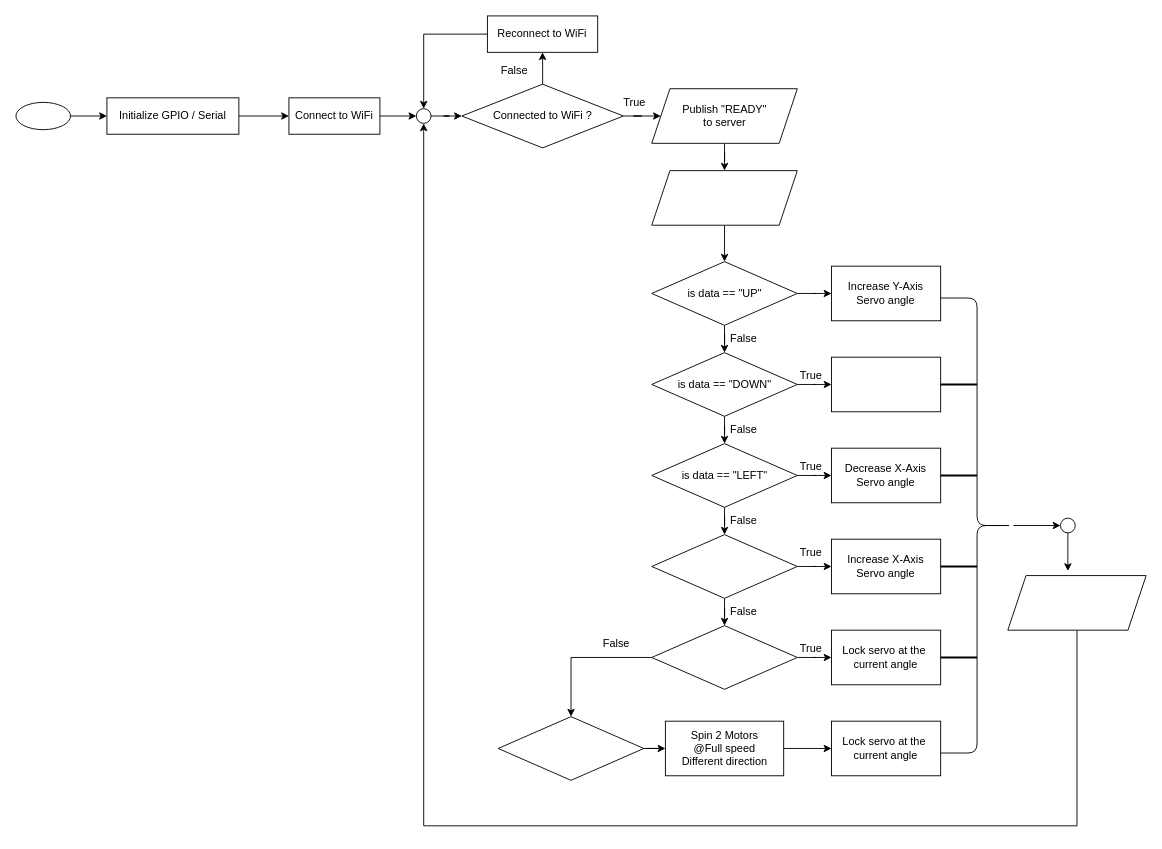
This 1162x849 diagram has some shape labels left out. Here are the shapes that lost their labels. From the top down, the centre of each, then its label:
[43,115]: Start
[724,197]: Polling data packet from server
[886,384]: Decrease Y-Axis Servo angle
[724,566]: is data == "RIGHT"
[1076,602]: Publish action to server for logging
[724,657]: is data == "STOP"
[570,748]: is data == "SHOOT"
